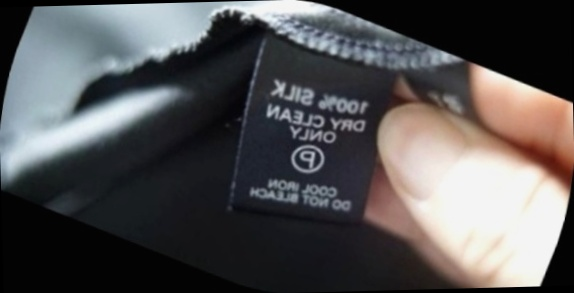dry_clean_any_solvent_except_trichloroethylene: (280, 131, 334, 184)
